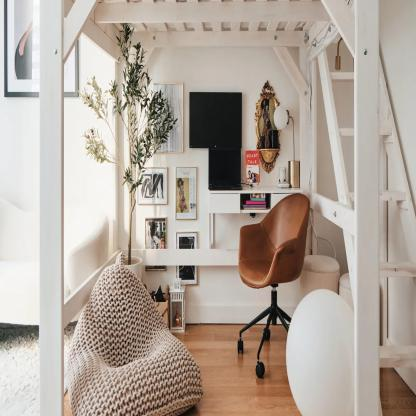chair: (64, 261, 205, 416), (225, 188, 324, 384), (300, 252, 344, 337)
light: (272, 107, 304, 189)
